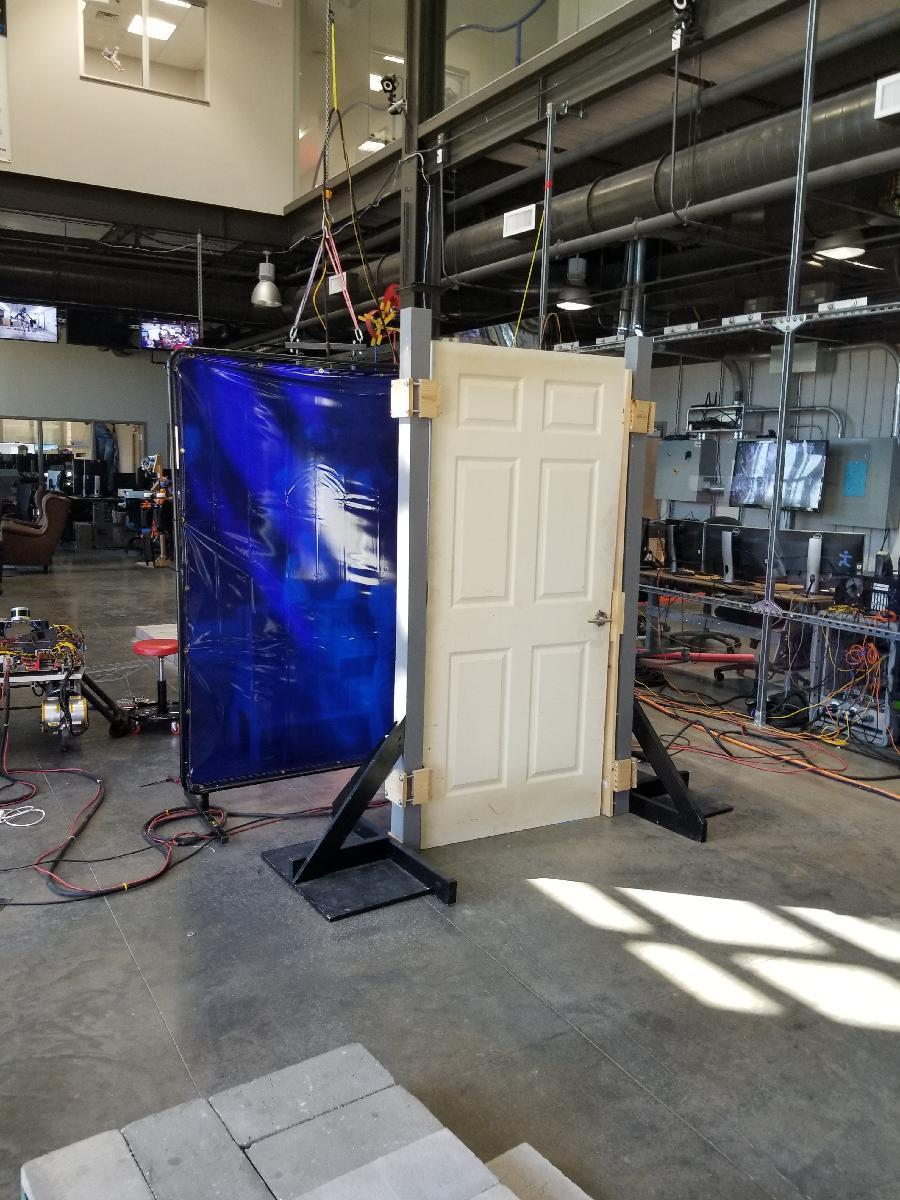door: (439, 335, 612, 840)
handle: (584, 612, 612, 626)
